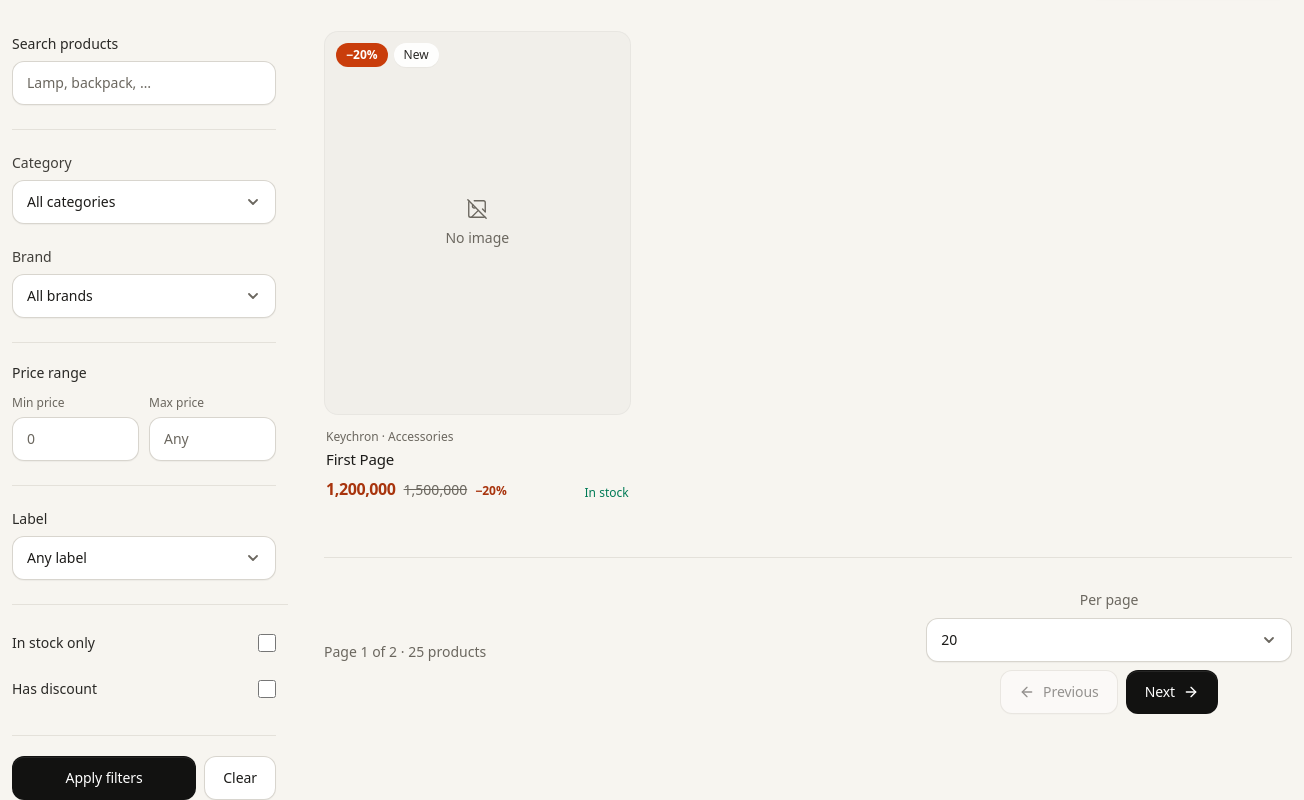
Scenario: ProductList › navigates paginated results and resets on a new filter
The width and height of the screenshot is (1304, 800).
(page scrolled)
Expected: the heading "First Page" is shown, [326, 448, 394, 468]
Click the button "Next" at {"x": 1172, "y": 692}, box [1126, 670, 1218, 714]
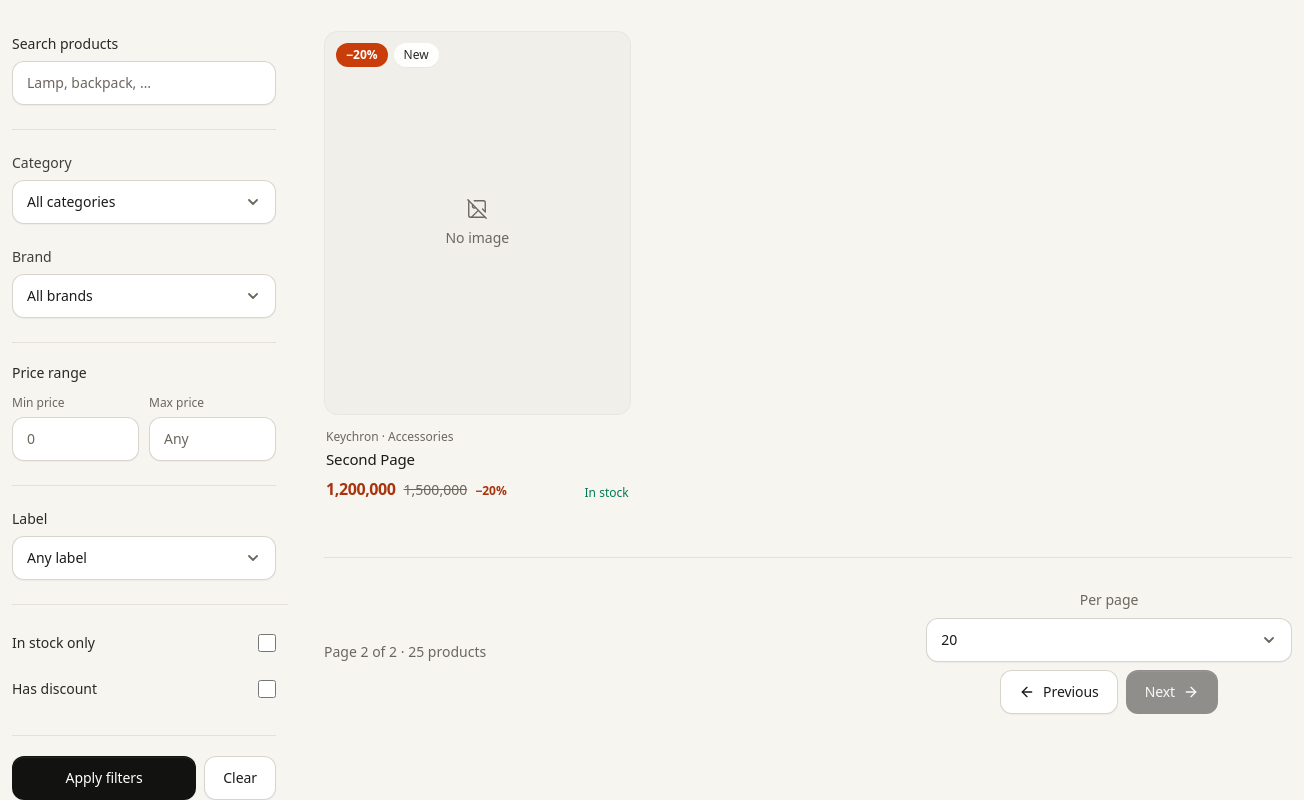
Result: the heading "Second Page" is shown at [326, 448, 415, 468]
Type "keyboard" into the field labelled "Search products" at {"x": 144, "y": 83}, box [12, 61, 276, 105]
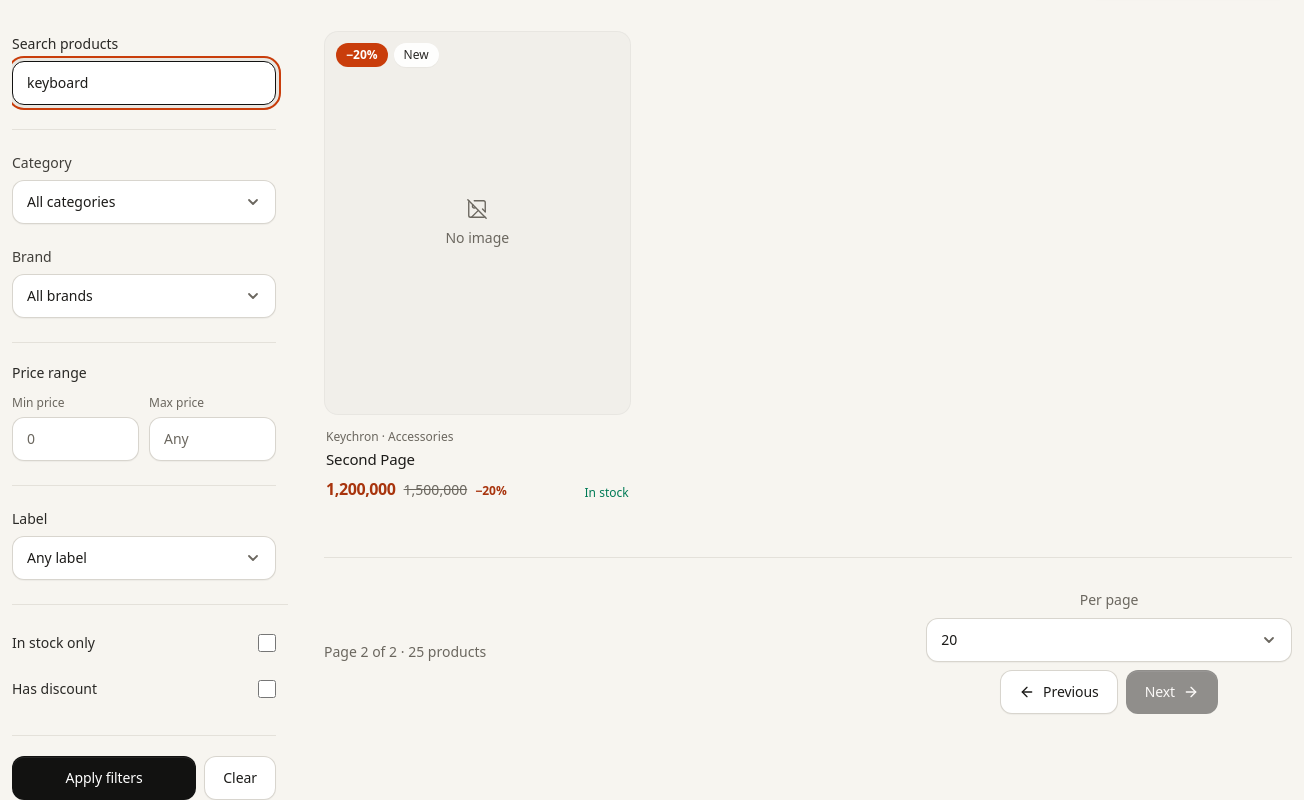
Click the button "Apply filters" at {"x": 104, "y": 778}, box [12, 756, 196, 799]
(page scrolled)
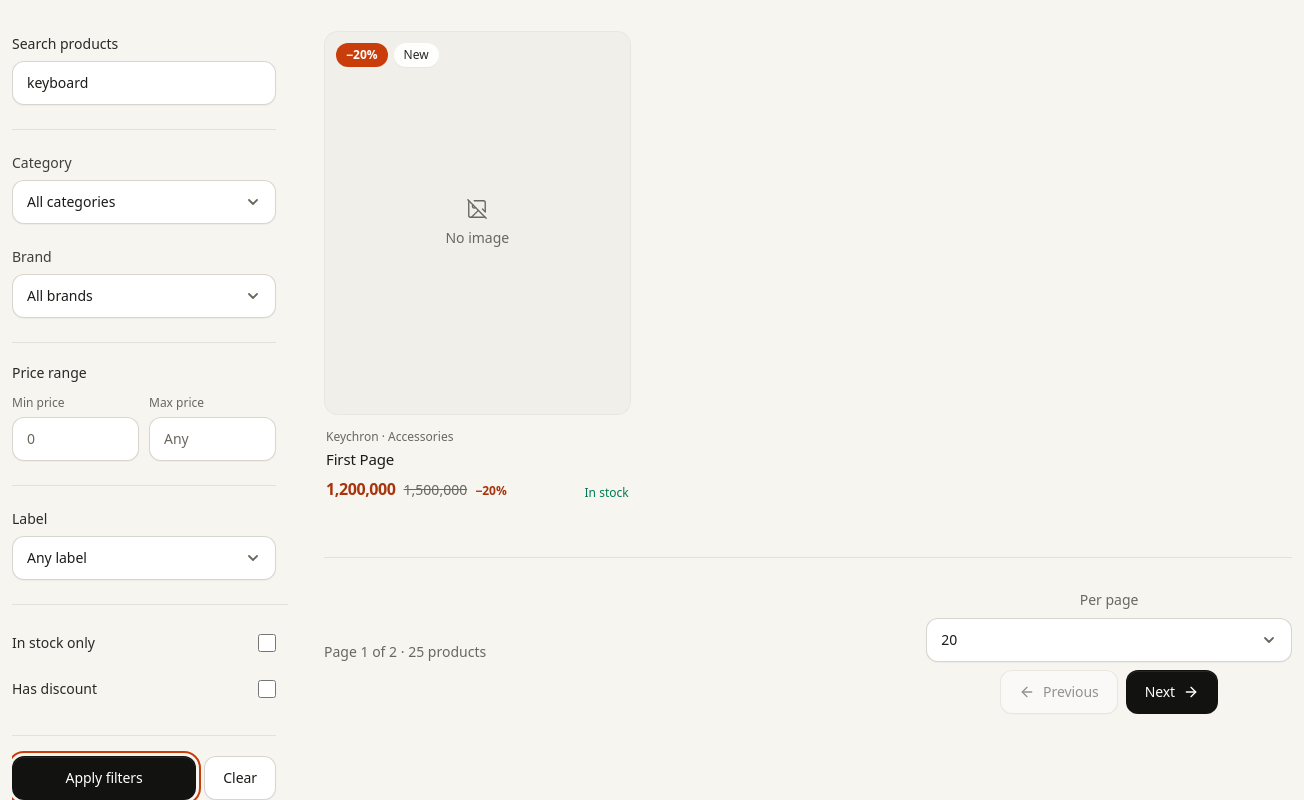
Result: the text "Page 1 of 2 · 25 products" is shown at [324, 642, 486, 662]
